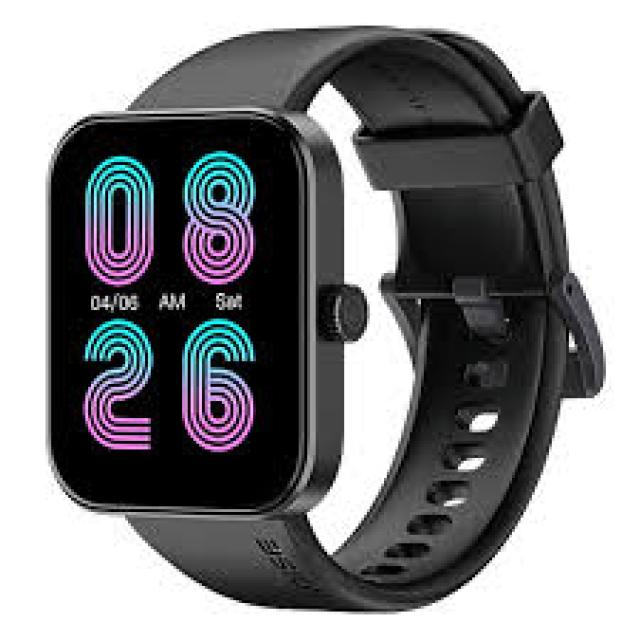objects: (48, 25, 607, 615)
